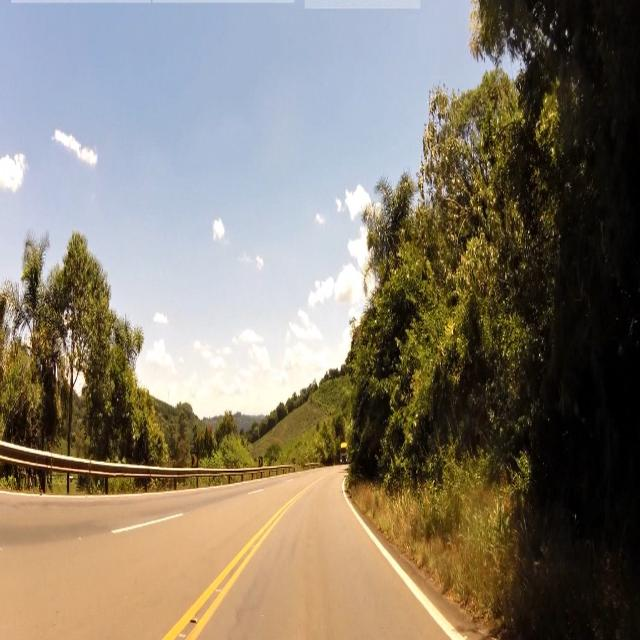Del: (191, 454, 198, 466)
